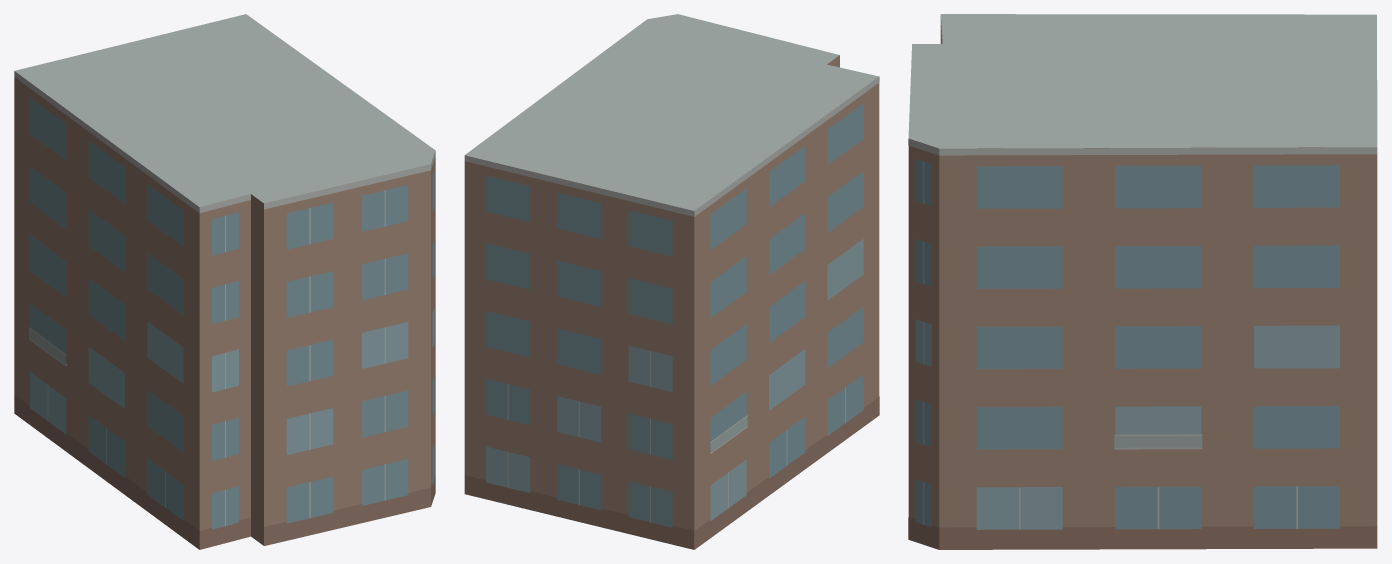
The model's file is survey-upis-32744799.glb.
3 renders of one model, left to right at view 1: azimuth 30°, elevation 25°; view 2: azimuth 150°, elevation 25°; view 3: azimuth 270°, elevation 25°, orthographic. The views are drawn at different scales.
Parts seen in each view (by area): view 1: survey-upis-32744799.tmp; view 2: survey-upis-32744799.tmp; view 3: survey-upis-32744799.tmp.
Part boxes in pixels (left/top/right/bottom): survey-upis-32744799.tmp: left=14, top=14, right=435, bottom=549; survey-upis-32744799.tmp: left=464, top=14, right=879, bottom=549; survey-upis-32744799.tmp: left=908, top=14, right=1377, bottom=549.
Size of the model in its own units: 10.08 by 14 by 14.84.
